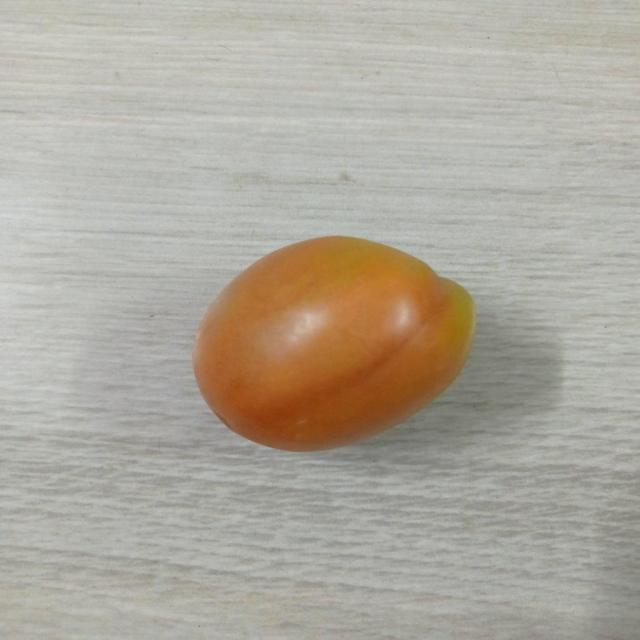Tomato: (187, 231, 482, 454)
